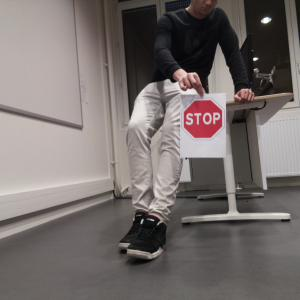stop: (182, 97, 224, 140)
